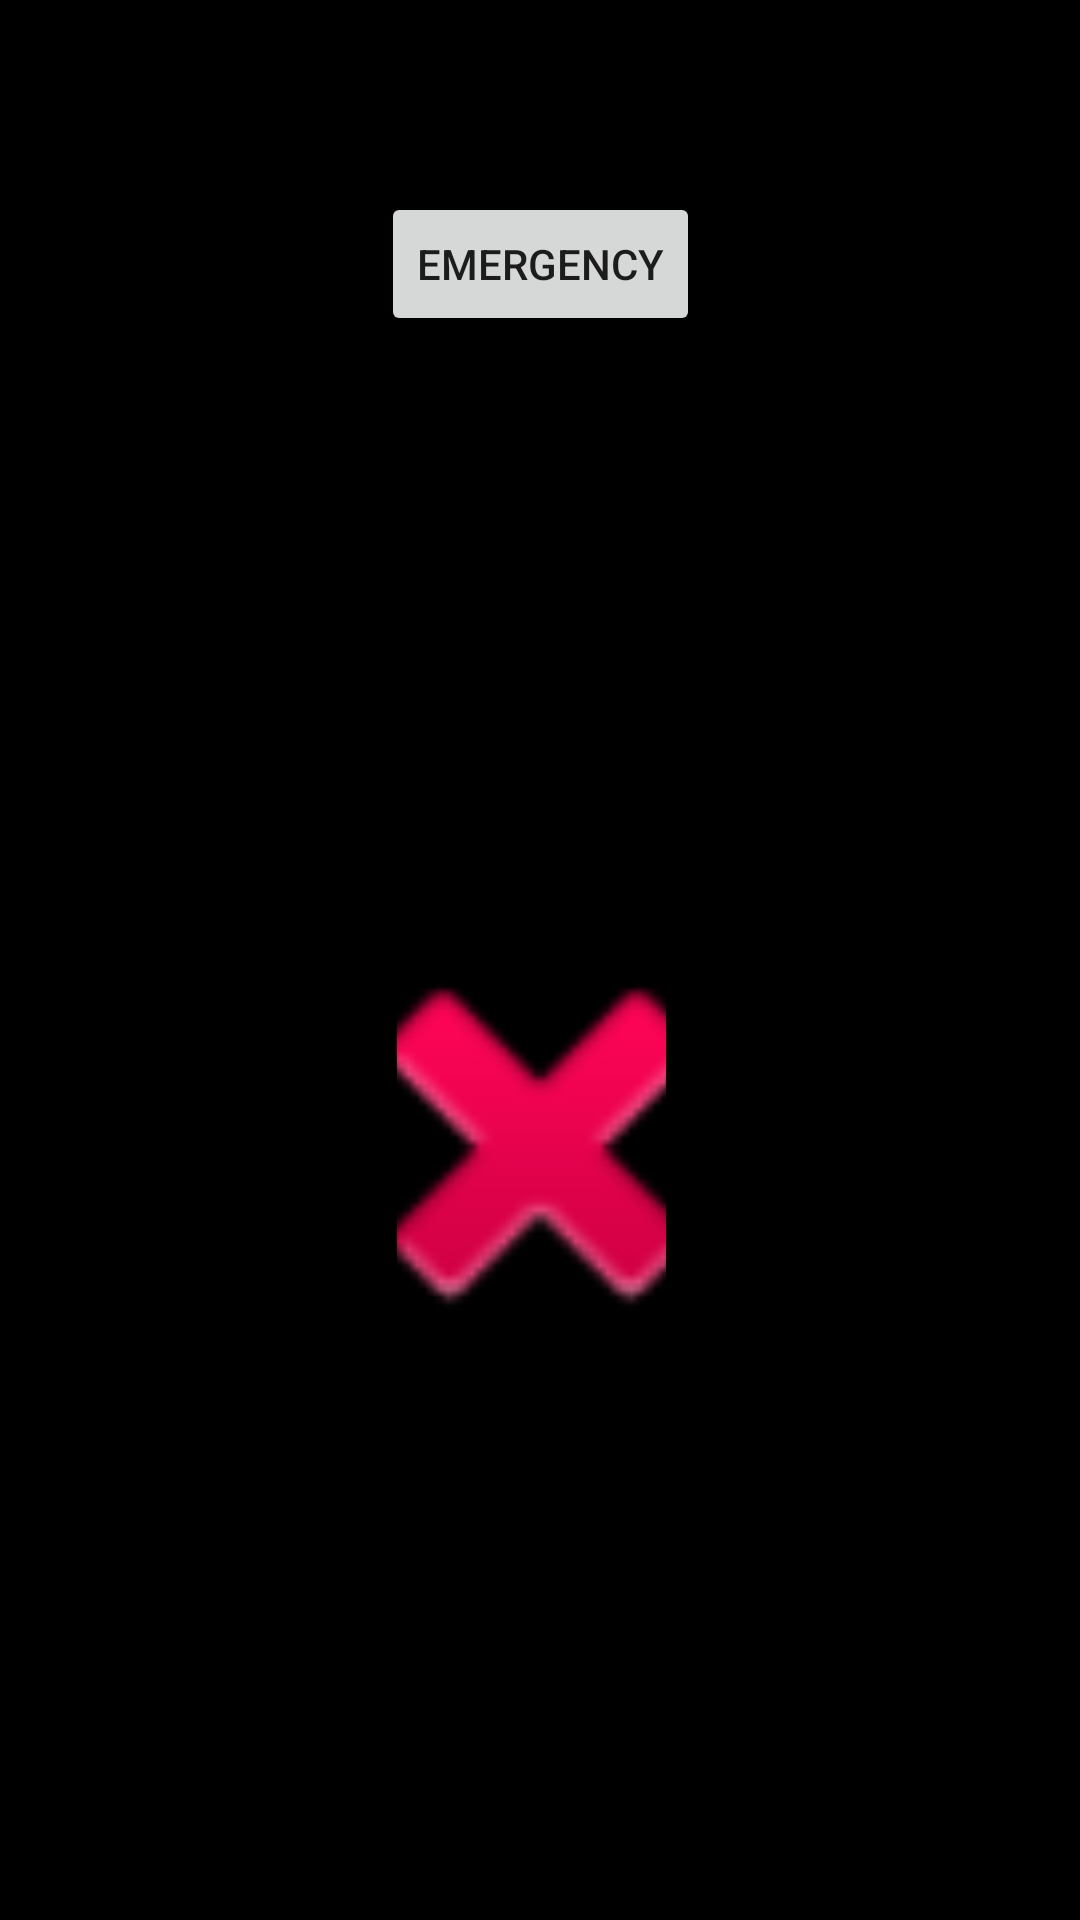

Icon click points for this 1080*1920 phone screenshot, format [x,y]:
delete: [531,1145]
